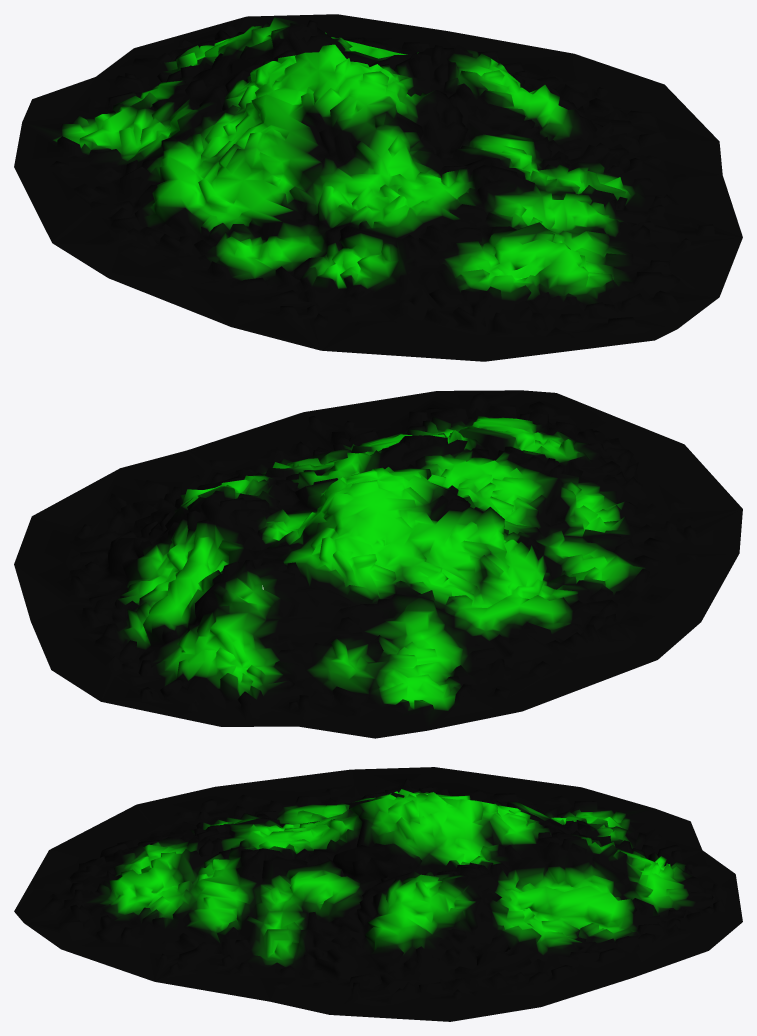
Rendered from DBK_Brick_Rubble_A.fbx.
3 renders of one model, top to bottom at view 1: azimuth 30°, elevation 25°; view 2: azimuth 150°, elevation 25°; view 3: azimuth 270°, elevation 25°, orthographic. The views are drawn at different scales.
Parts seen in each view (by area): view 1: DBK_Brick_Rubble_A; view 2: DBK_Brick_Rubble_A; view 3: DBK_Brick_Rubble_A.
Part boxes in pixels (<box>): DBK_Brick_Rubble_A: <box>14,14,742,361</box>; DBK_Brick_Rubble_A: <box>14,390,742,738</box>; DBK_Brick_Rubble_A: <box>14,767,742,1021</box>.
Bounding box in the file's own units: 579 × 97.5 × 699.
